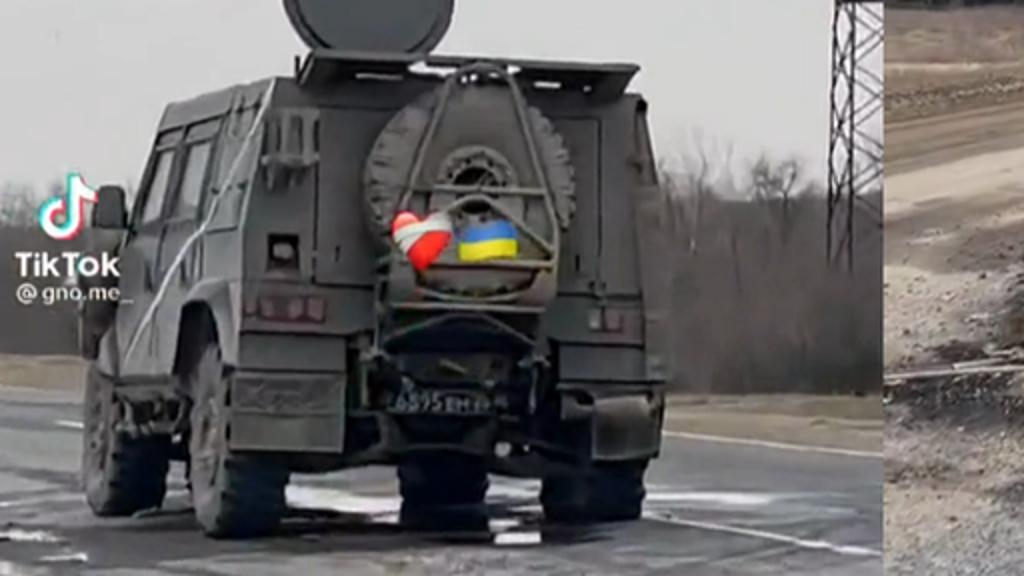CAR: (76, 56, 668, 538)
